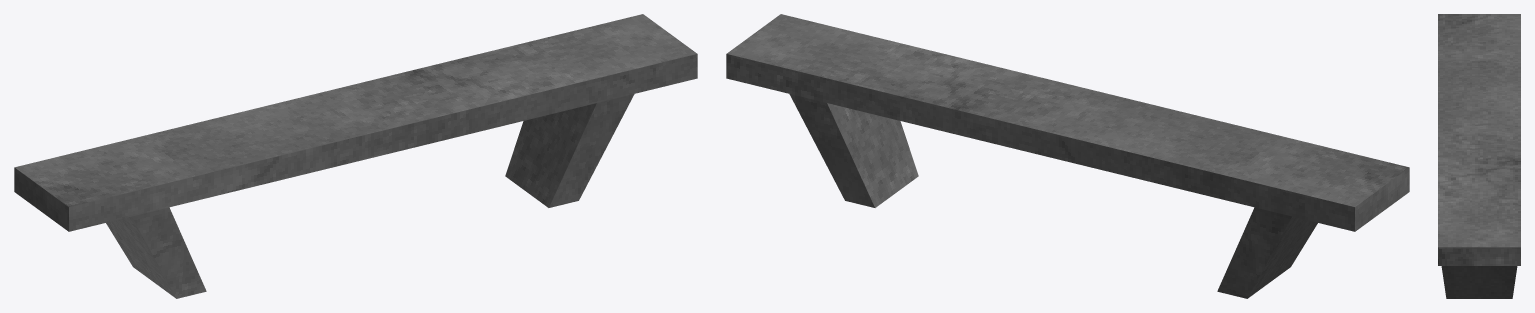
File: Bench_internal.glb
The picture shows the model from 3 angles, left to right: view 1: azimuth 30°, elevation 25°; view 2: azimuth 150°, elevation 25°; view 3: azimuth 270°, elevation 25°; orthographic projection. The views are drawn at different scales.
Parts seen in each view (by area): view 1: Bench internal; view 2: Bench internal; view 3: Bench internal.
Part boxes in pixels (<box>): Bench internal: <box>14,14,697,298</box>; Bench internal: <box>726,14,1409,298</box>; Bench internal: <box>1438,14,1520,298</box>.
Bounding box in the file's own units: 4 × 0.75 × 0.6.
Materials: 1 (1 with a texture image).
